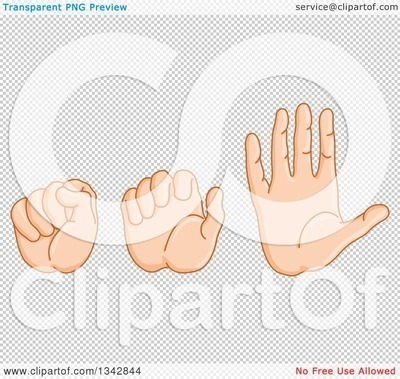closedhandfront: (11, 178, 108, 290)
